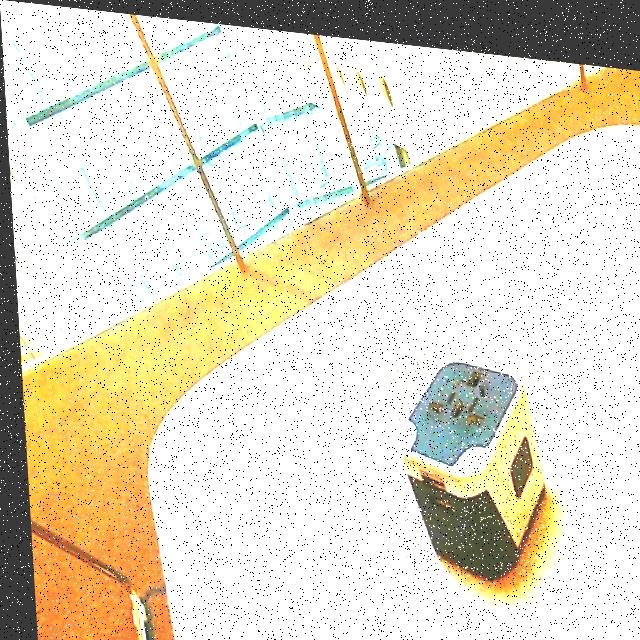adapter: (387, 340, 545, 575)
